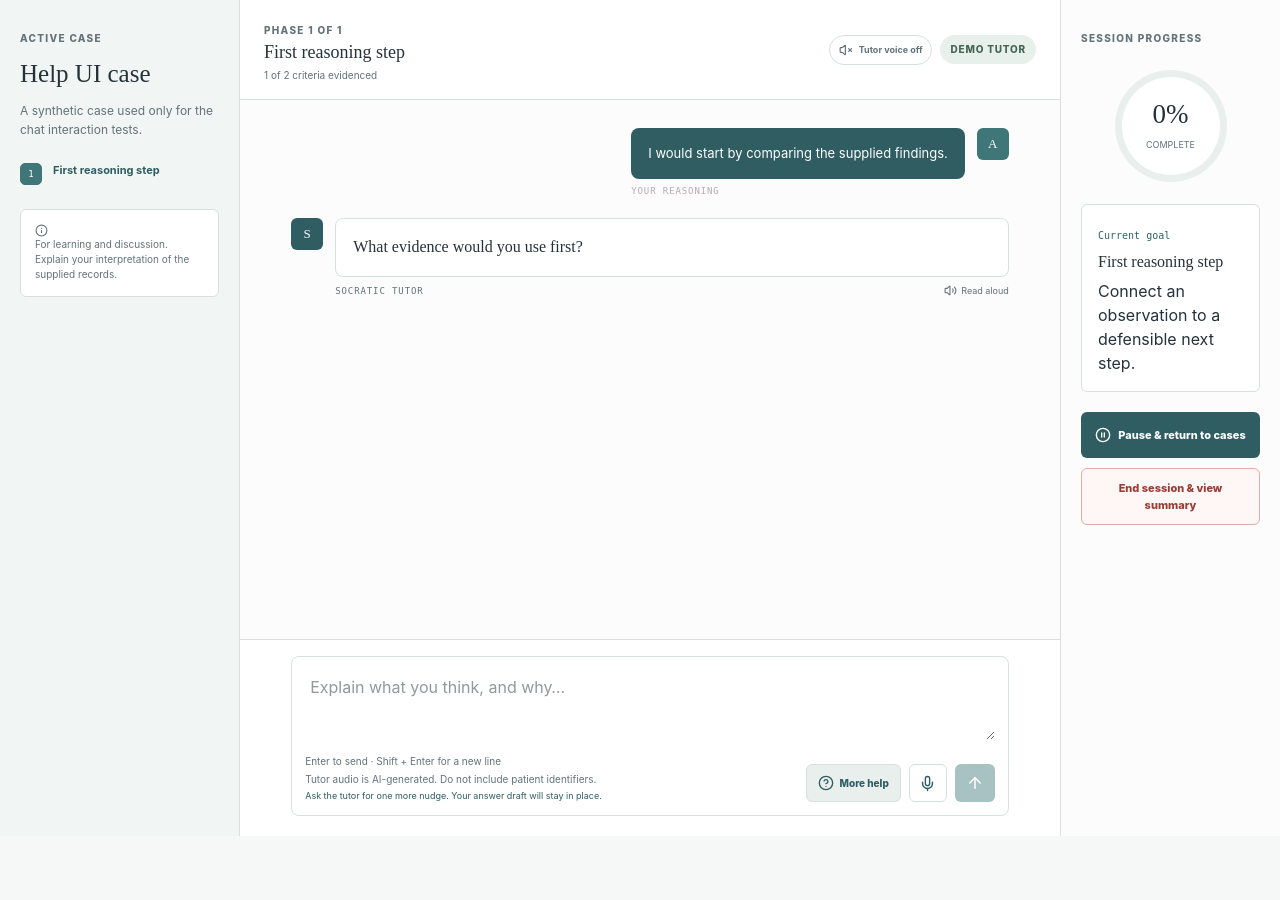
Test: student More help interaction › labels a timeout as status-unknown and keeps the same retry path
The width and height of the screenshot is (1280, 900).
Click the button with class "more-help-button" at {"x": 853, "y": 783}, box 806,764 -> 901,802
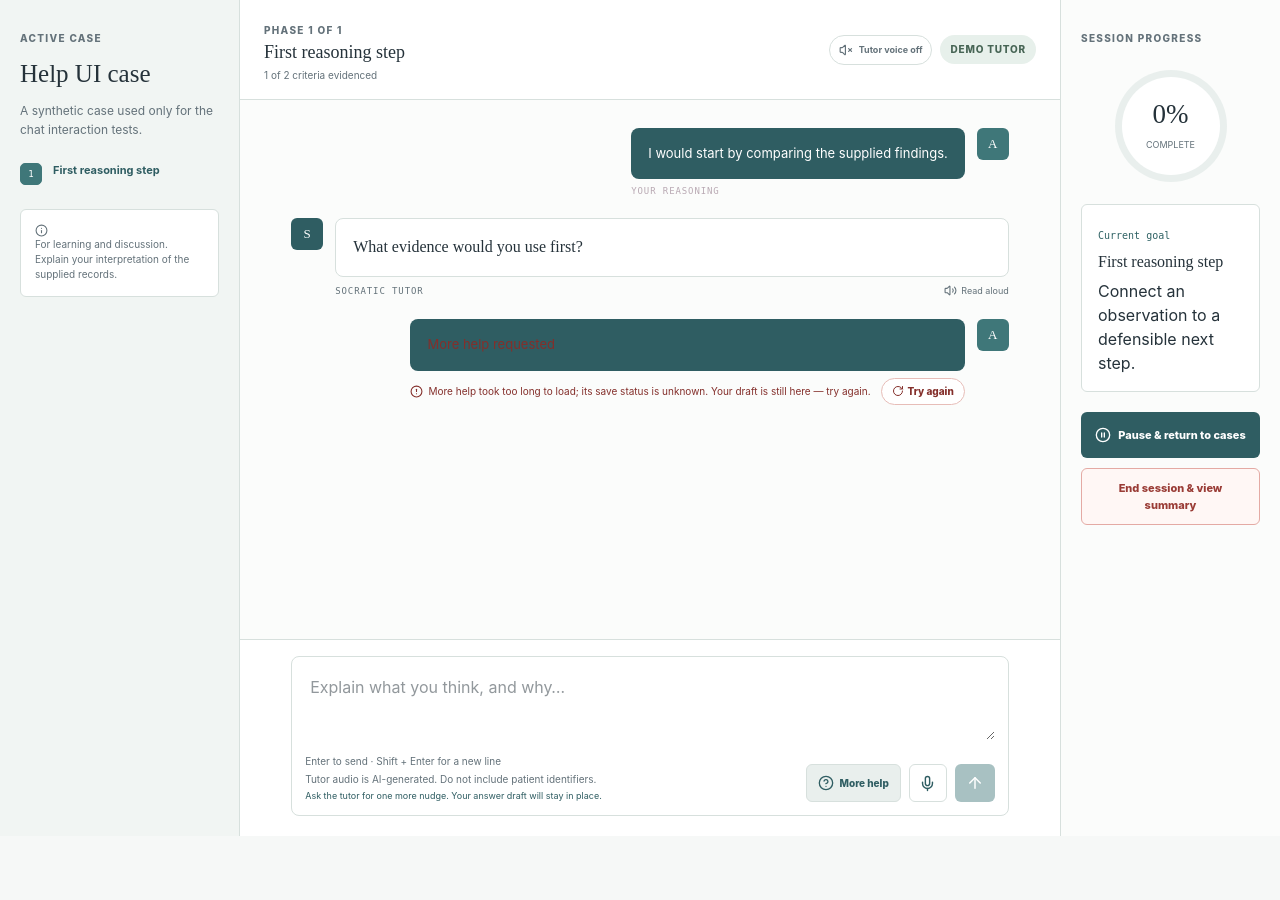
expect the message with class "message-failure" shows "save status is unknown": met, box 428,385 -> 871,397
